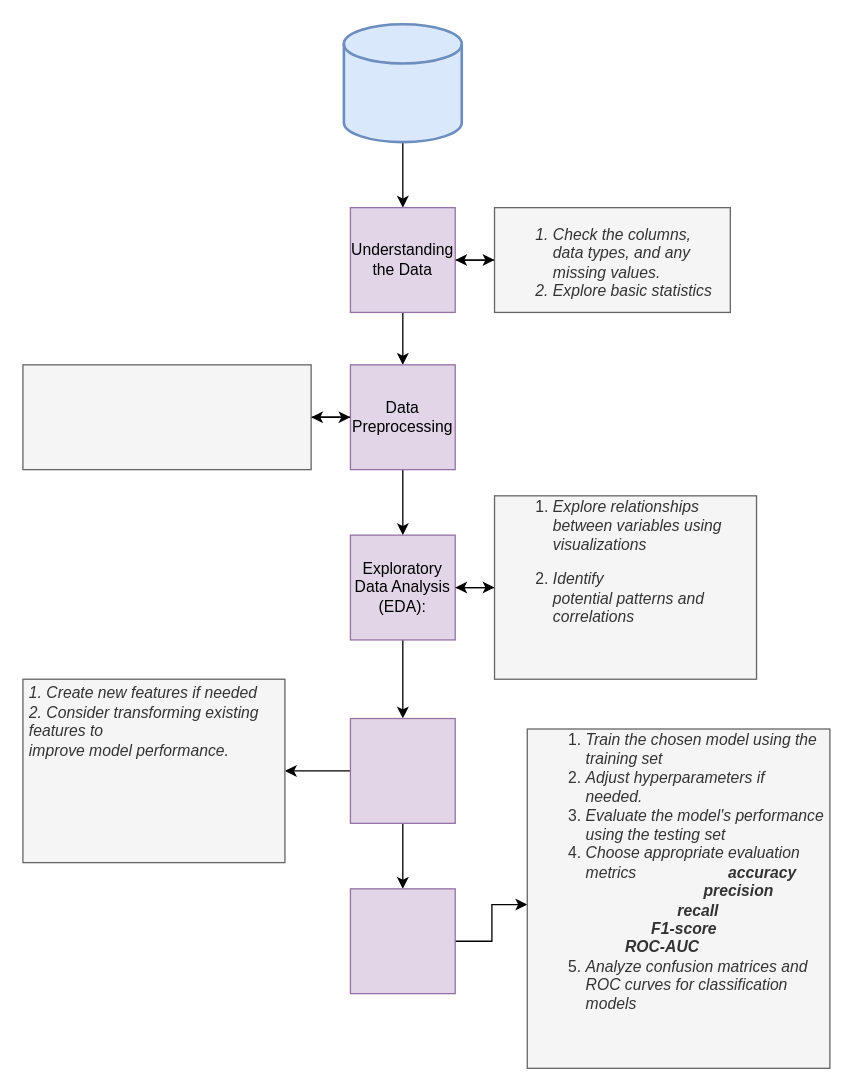
The diagram is 853 pixels wide and 1091 high, and some of its shapes have lost their labels. The box of each missing label's shape, as (x1, y1, x2, y2) in pixels:
Feature Engineering: (349, 717, 455, 823)
Handle missing values Convert categorical variables Feature scaling: (22, 364, 311, 470)
Heart Disease DataSet: (342, 22, 462, 143)
Model Selection & Evaluation: (349, 888, 455, 994)
